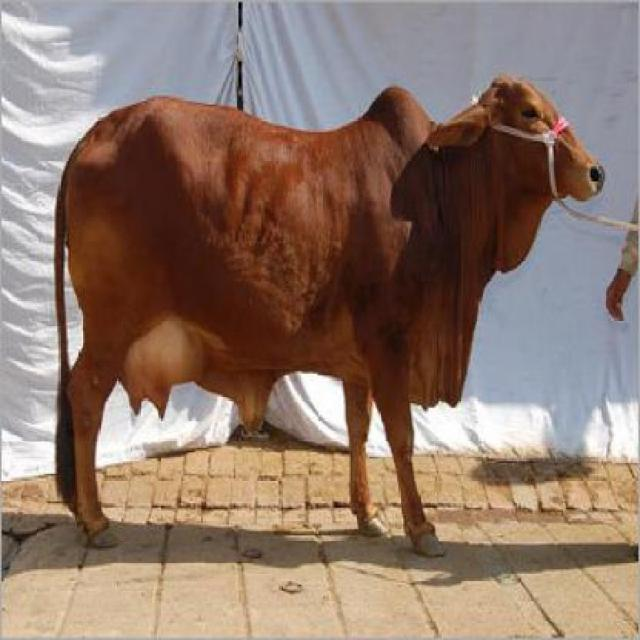Cow: (48, 71, 602, 557)
